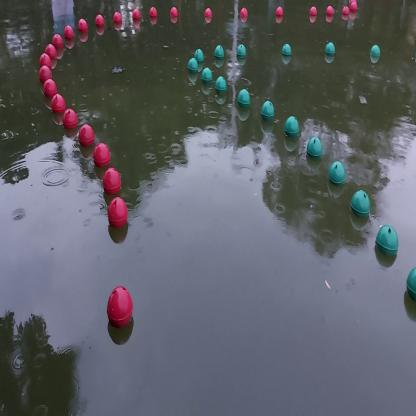green_buoy: (374, 223, 398, 268), (352, 190, 370, 224), (261, 99, 276, 130), (329, 160, 344, 190), (406, 262, 416, 306), (287, 115, 300, 147), (236, 86, 250, 114), (216, 74, 229, 102), (307, 136, 322, 160), (213, 43, 226, 69), (370, 43, 381, 71), (324, 43, 336, 68), (235, 42, 247, 66), (189, 57, 199, 81), (281, 43, 293, 62), (202, 69, 212, 91), (195, 47, 204, 65)
red_buoy: (107, 284, 132, 338), (108, 195, 128, 234), (103, 166, 123, 202), (78, 124, 96, 154), (51, 92, 66, 121), (95, 143, 110, 171), (61, 109, 78, 133), (38, 65, 53, 92), (52, 30, 63, 62), (44, 42, 57, 67), (64, 20, 74, 47), (131, 5, 142, 29), (78, 18, 89, 42), (44, 80, 57, 100), (169, 3, 179, 27), (113, 10, 123, 33), (95, 12, 105, 35), (40, 51, 51, 71), (148, 5, 158, 27), (276, 7, 286, 28), (340, 2, 350, 21), (348, 0, 360, 15), (204, 6, 212, 27), (240, 6, 249, 24), (326, 5, 334, 24), (309, 7, 317, 25)
